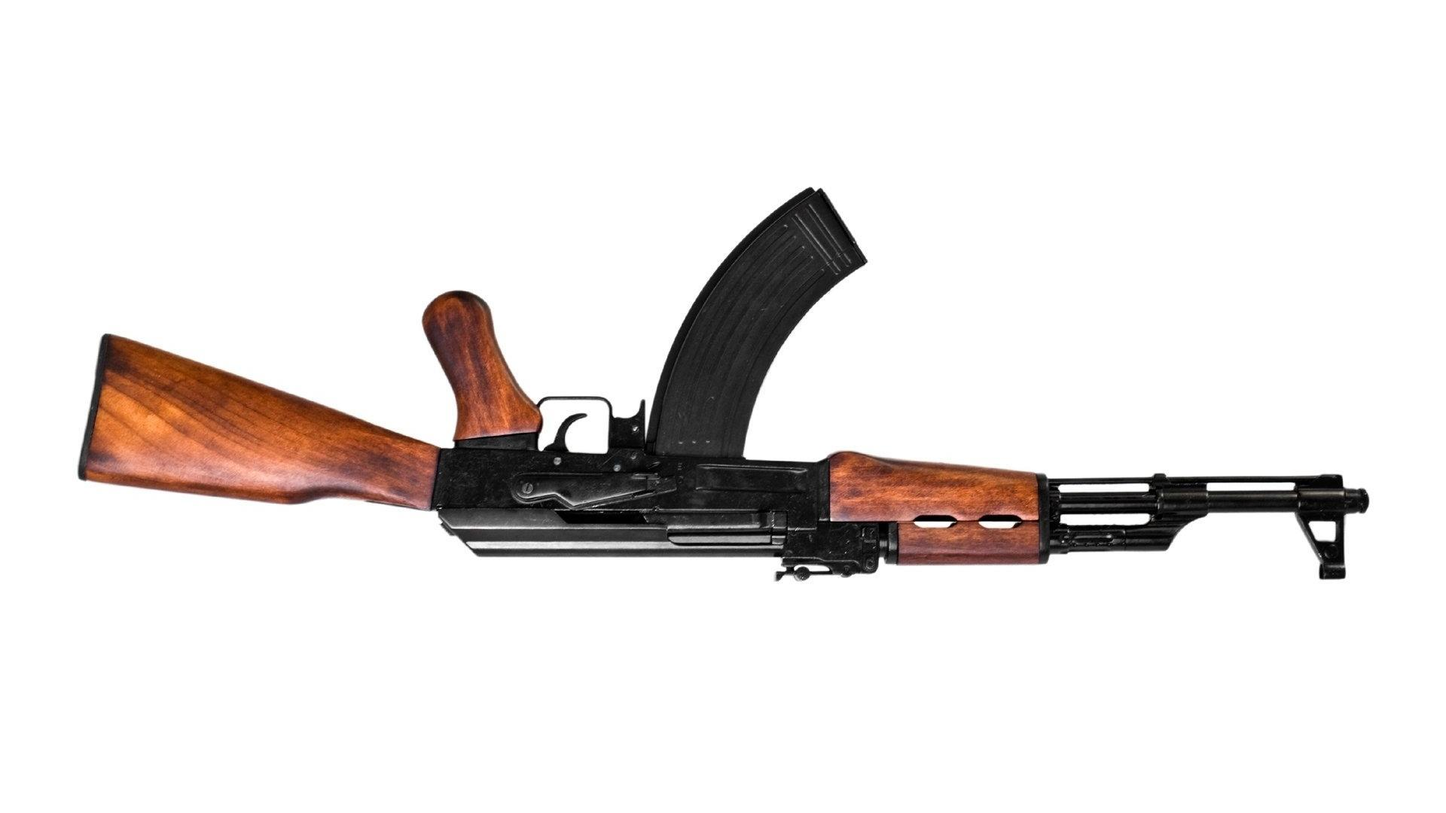larga: (76, 186, 1374, 585)
